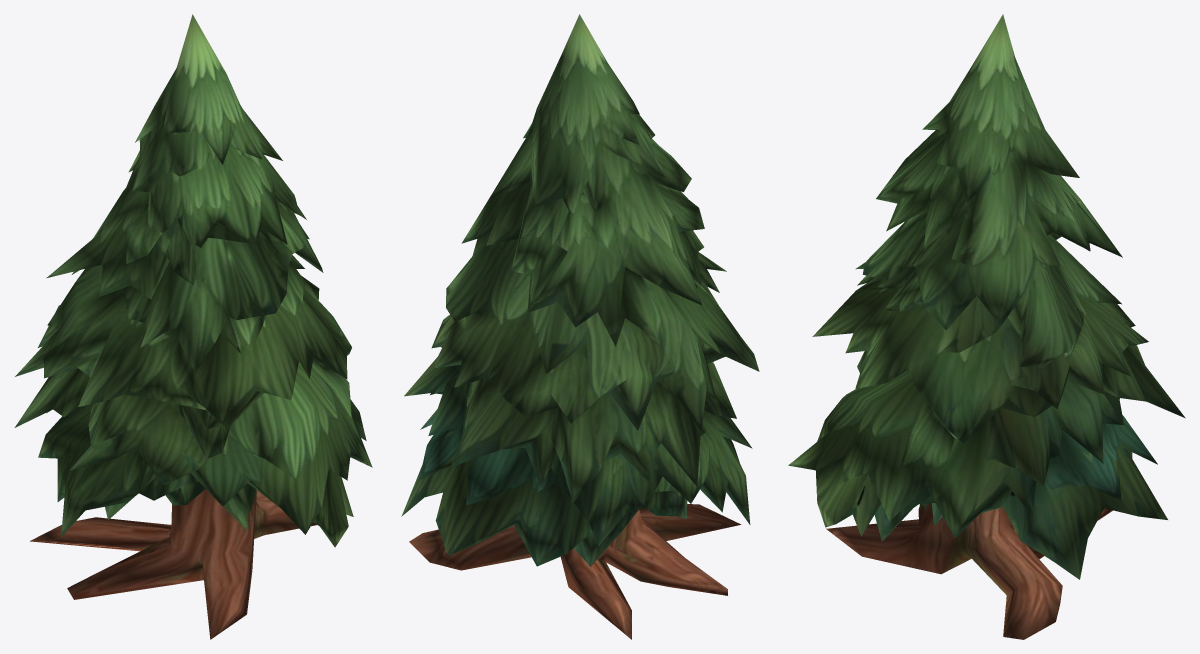
Rendered from tree_hi.glb.
3 renders of one model, left to right at view 1: azimuth 30°, elevation 25°; view 2: azimuth 150°, elevation 25°; view 3: azimuth 270°, elevation 25°, orthographic. The views are drawn at different scales.
Parts seen in each view (by area): view 1: Tree.001; view 2: Tree.001; view 3: Tree.001.
Boxes of the visible parts, x1,y1,x2,y2 form: Tree.001: (14, 14, 372, 639); Tree.001: (401, 14, 759, 639); Tree.001: (788, 14, 1185, 639).
Bounding box in the file's own units: 1.16 × 2 × 1.3.
Materials: 1 (1 with a texture image).
